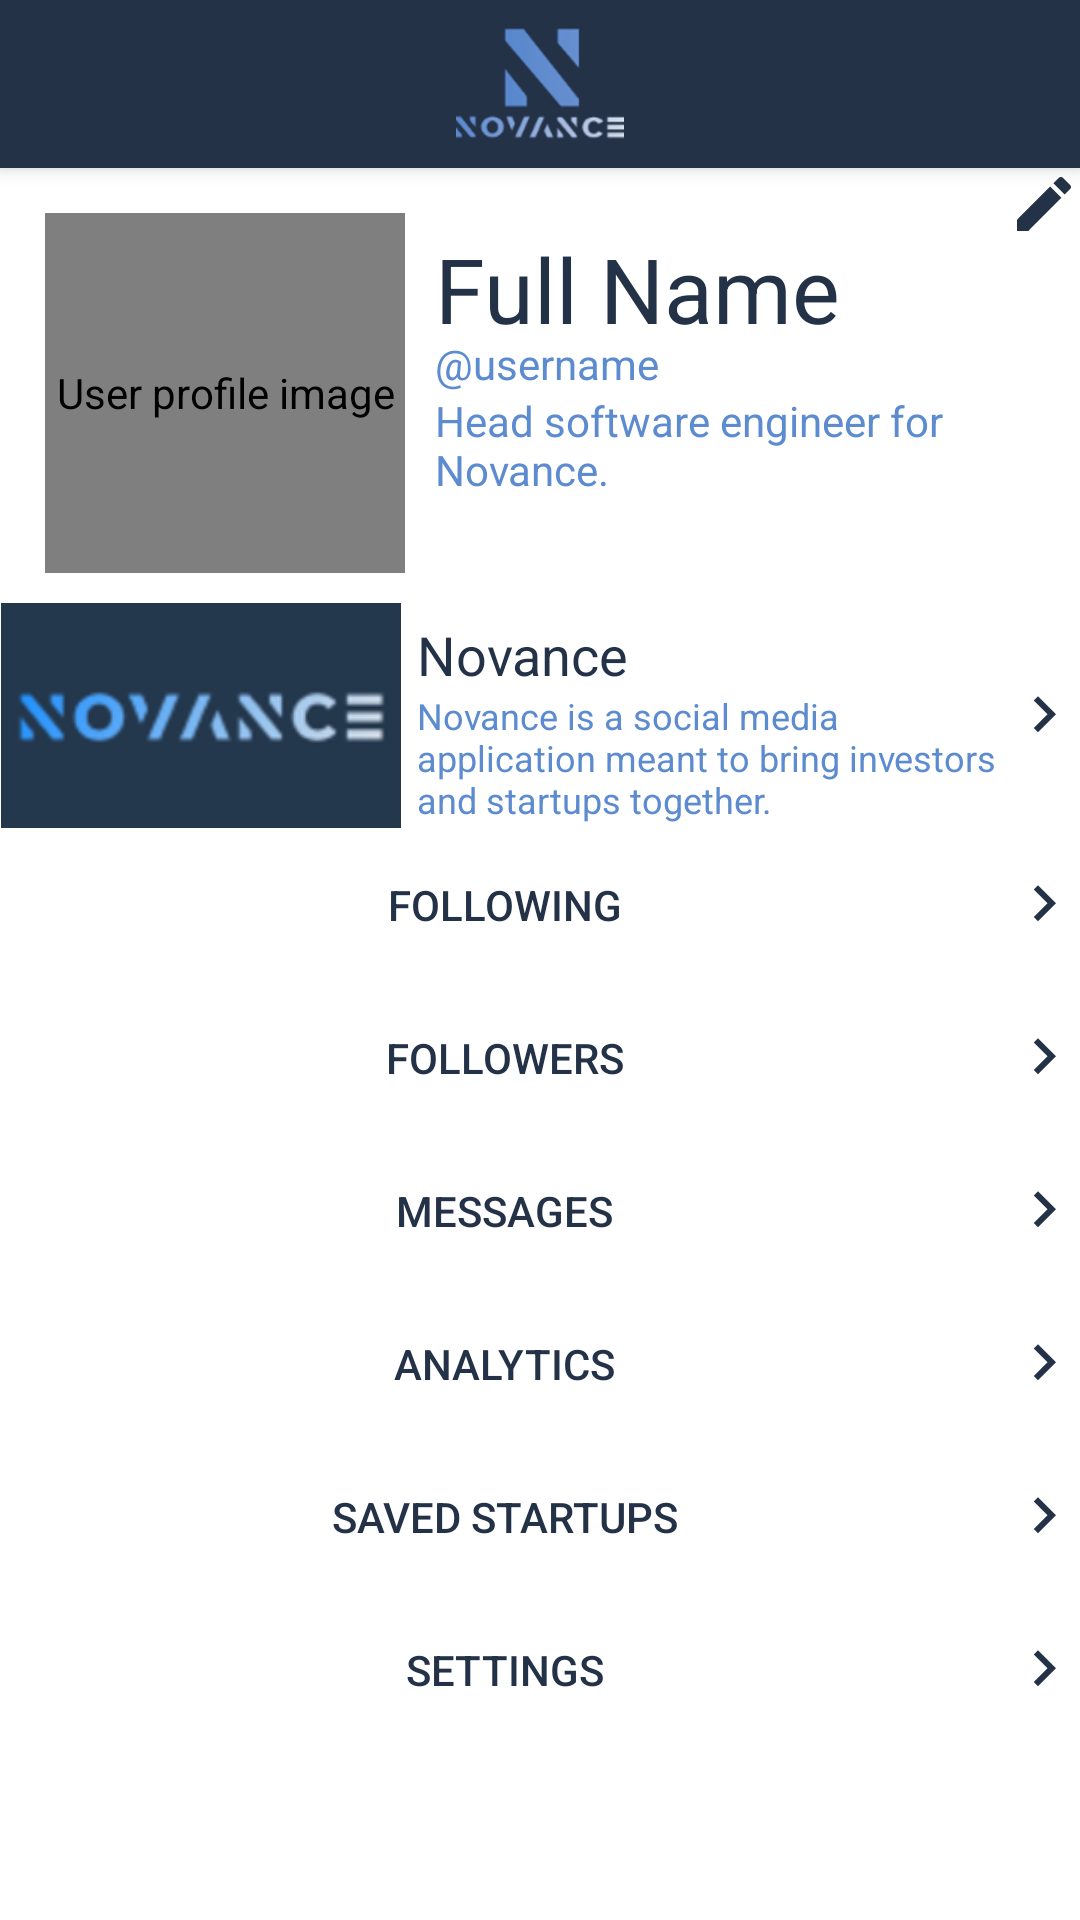

Locate icon controls on the screen. Image size 1080w x 1920h, boxes as (x1, y1, x2, y2).
Edit Profile: (1017, 177, 1071, 231)
